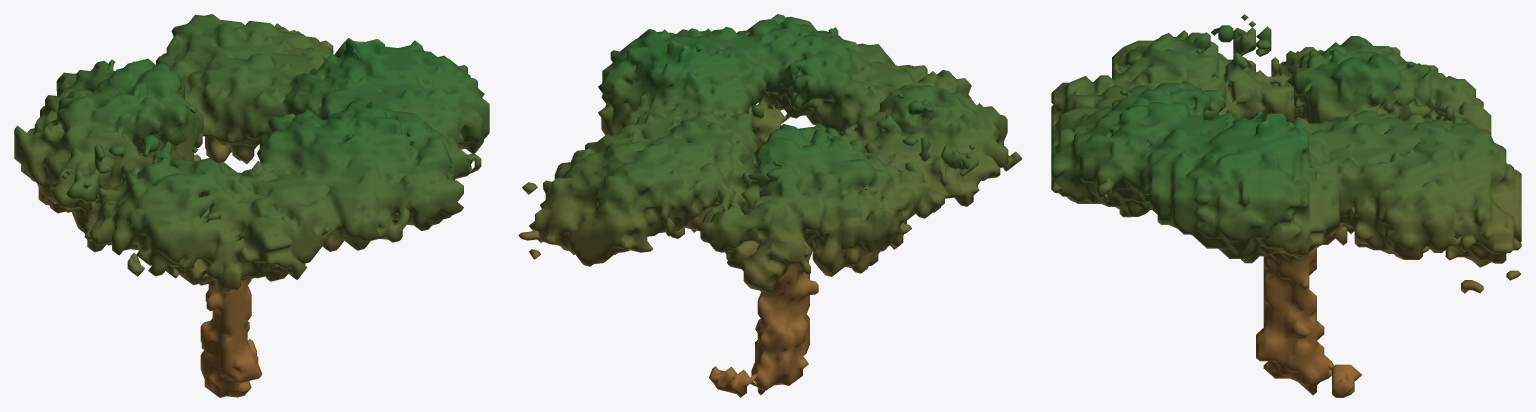
The model's file is gen4_colored.obj.
3 renders of one model, left to right at view 1: azimuth 30°, elevation 25°; view 2: azimuth 150°, elevation 25°; view 3: azimuth 270°, elevation 25°, orthographic. The views are drawn at different scales.
Bounding box in the file's own units: 59 × 48 × 62.
Materials: 1 (1 with a texture image).
